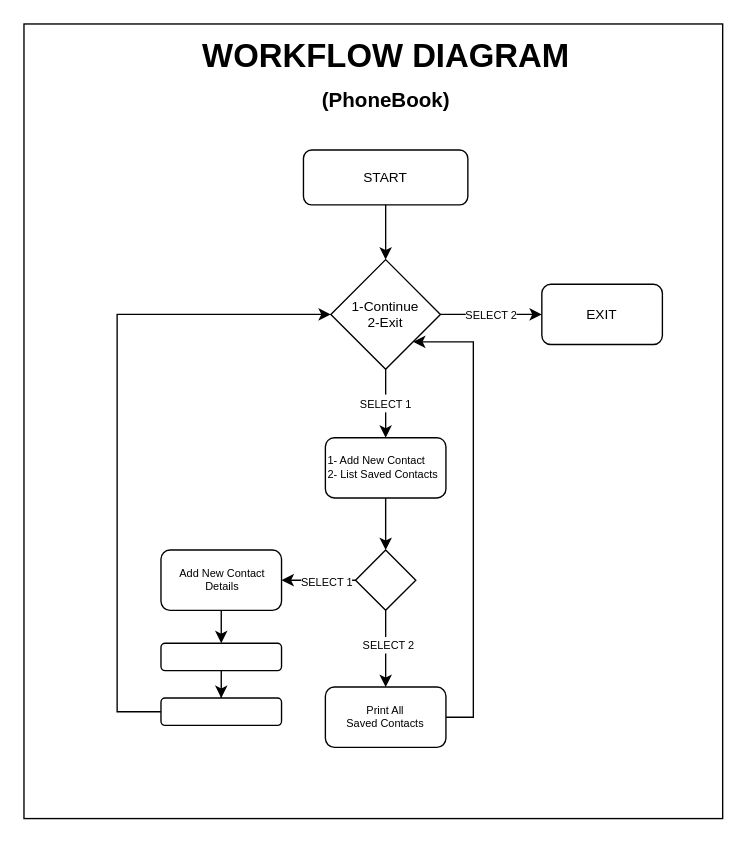
The diagram is 747 pixels wide and 843 high, and some of its shapes have lost their labels. Here are the shapes that lost their labels. From the top down, the centre of each, then its label:
[385,579]: 1 or 2
[221,656]: FULL NAME
[221,711]: MOB NO
